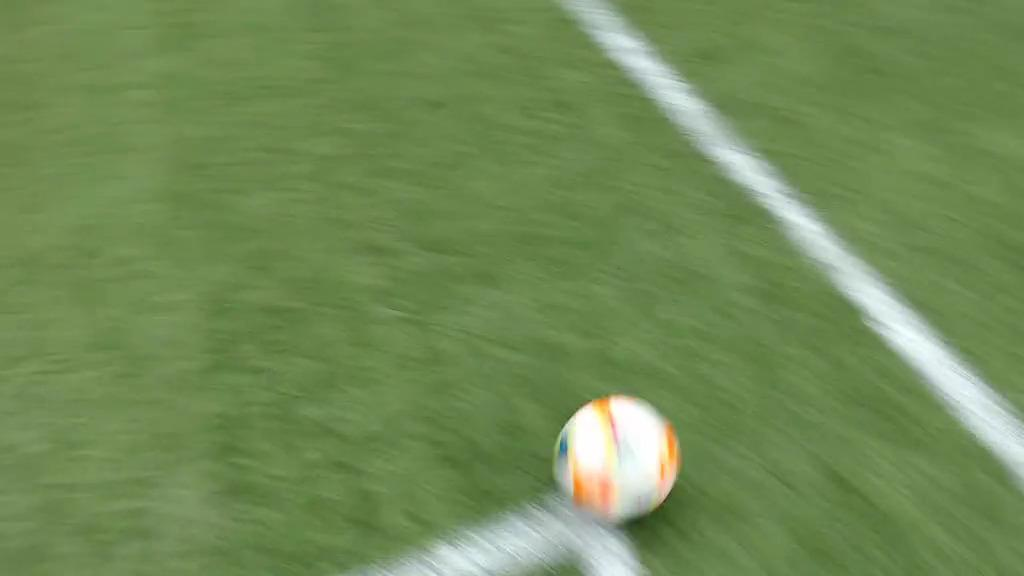ball: (555, 396, 682, 523)
